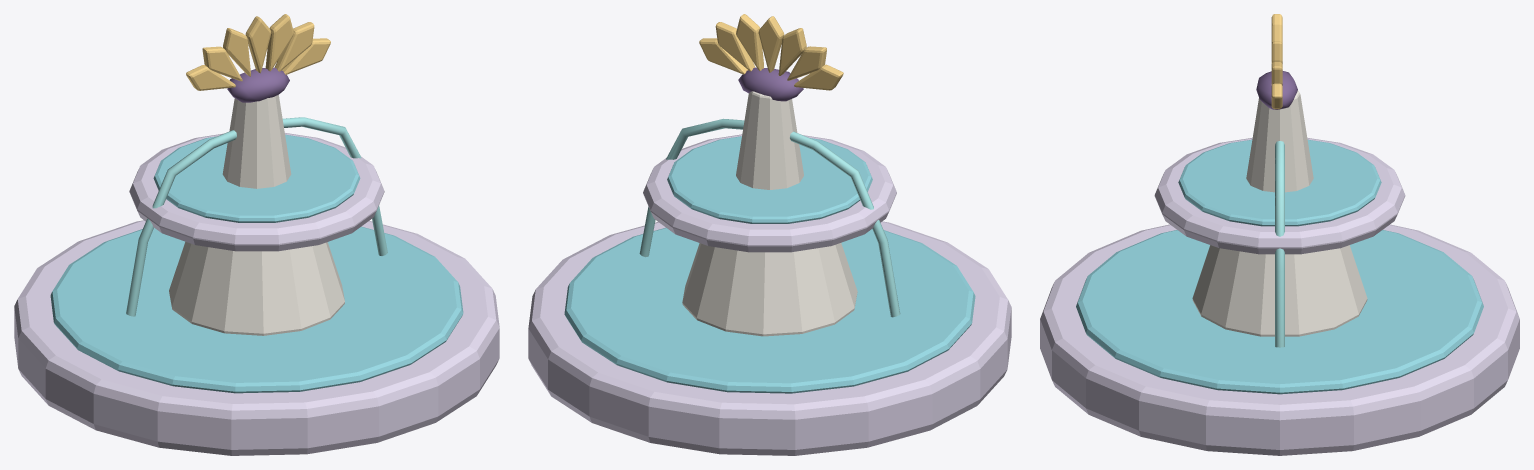
The model's file is lagoon_park_fountain.glb.
3 renders of one model, left to right at view 1: azimuth 30°, elevation 25°; view 2: azimuth 150°, elevation 25°; view 3: azimuth 270°, elevation 25°, orthographic.
Parts seen in each view (by area): view 1: lagoon_park_fountain.001; view 2: lagoon_park_fountain.001; view 3: lagoon_park_fountain.001.
Boxes of the visible parts, <box> form: lagoon_park_fountain.001: <box>14,14,499,455</box>; lagoon_park_fountain.001: <box>528,14,1011,455</box>; lagoon_park_fountain.001: <box>1040,14,1519,455</box>.
Size of the model in its own units: 6.7 by 5.18 by 6.7.
